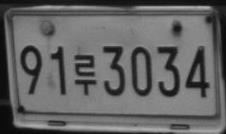0: (130, 45, 153, 96)
1: (47, 45, 71, 95)
3: (101, 44, 126, 96), (156, 45, 180, 97)
4: (185, 45, 210, 98)
9: (19, 44, 43, 95)
루: (73, 54, 97, 95)
